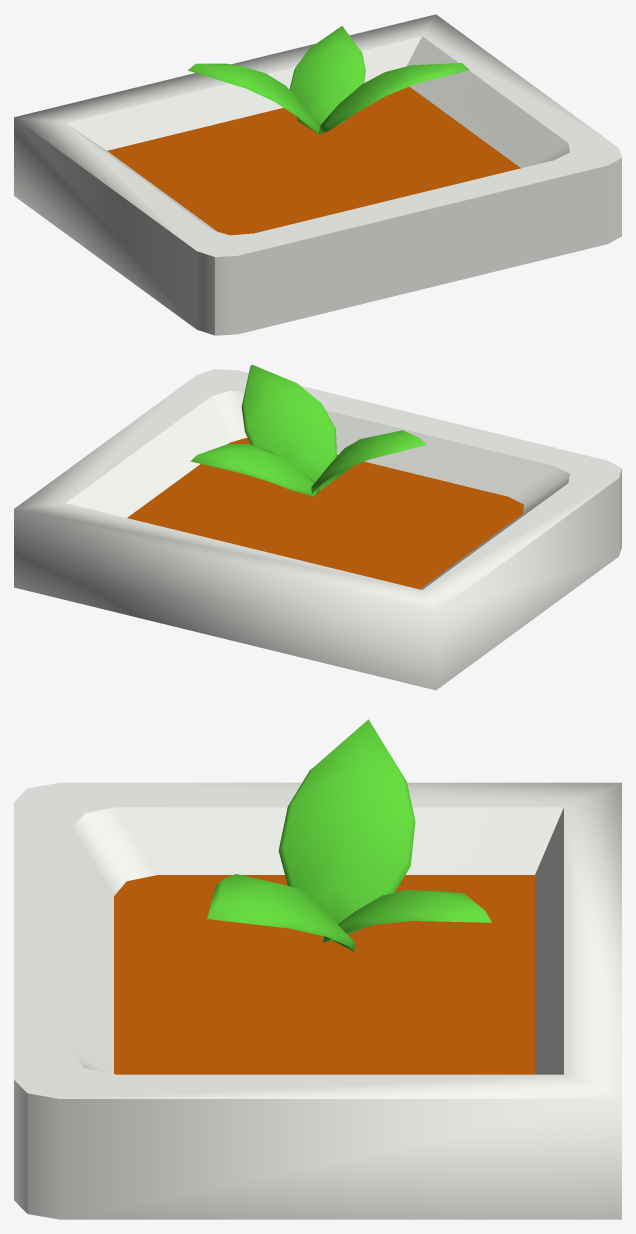
The model's file is TreeTub.fbx.
The picture shows the model from 3 angles, top to bottom: view 1: azimuth 30°, elevation 25°; view 2: azimuth 150°, elevation 25°; view 3: azimuth 270°, elevation 25°; orthographic projection. The views are drawn at different scales.
Parts seen in each view (by area): view 1: TreeTub.001; view 2: TreeTub.001; view 3: TreeTub.001.
Part boxes in pixels (x1=…): TreeTub.001: x1=14, y1=14, x2=621, y2=335; TreeTub.001: x1=14, y1=364, x2=621, y2=690; TreeTub.001: x1=14, y1=719, x2=621, y2=1219.
Size of the model in its own units: 200 by 76.19 by 162.
Materials: 1 (1 with a texture image).
